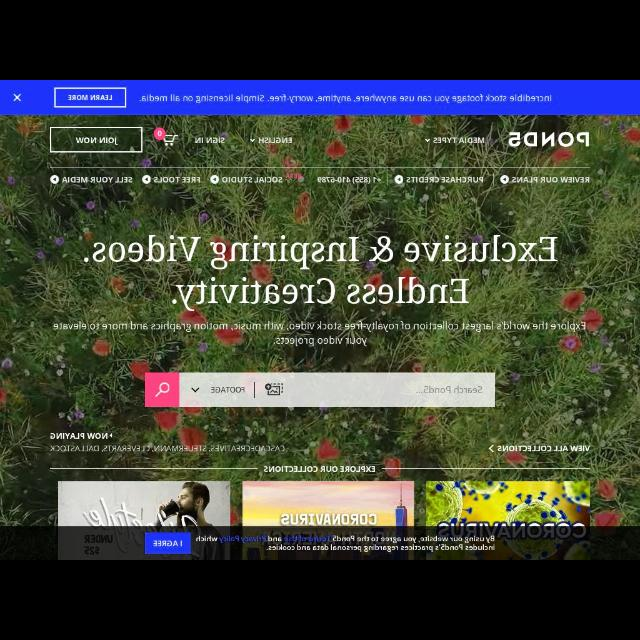backgroundimage: (1, 115, 639, 557)
icon: (154, 128, 178, 148), (266, 380, 282, 398), (154, 382, 170, 398), (141, 174, 151, 184), (500, 174, 510, 183), (394, 175, 404, 183), (191, 386, 199, 396), (423, 136, 432, 144), (51, 174, 58, 184), (210, 175, 218, 182), (487, 444, 493, 452), (110, 432, 116, 440), (247, 138, 256, 142)
iframe: (1, 80, 639, 114), (1, 528, 636, 558)
image: (58, 482, 230, 526), (243, 482, 413, 526), (426, 481, 590, 524), (506, 126, 594, 150)
input: (146, 372, 494, 408)
text: (82, 235, 556, 313), (53, 319, 585, 345), (48, 443, 286, 453), (416, 380, 488, 400), (262, 464, 376, 474), (498, 443, 594, 453), (222, 174, 302, 184), (512, 174, 592, 183), (61, 176, 131, 186), (44, 431, 110, 441), (406, 176, 486, 184), (317, 174, 381, 183), (153, 174, 200, 184), (208, 384, 246, 396), (74, 136, 118, 146), (434, 136, 486, 144), (260, 136, 294, 146), (194, 136, 226, 146)
textbutton: (49, 127, 142, 153)
toolbar: (1, 116, 638, 168)
